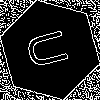U: (25, 25, 79, 71)
